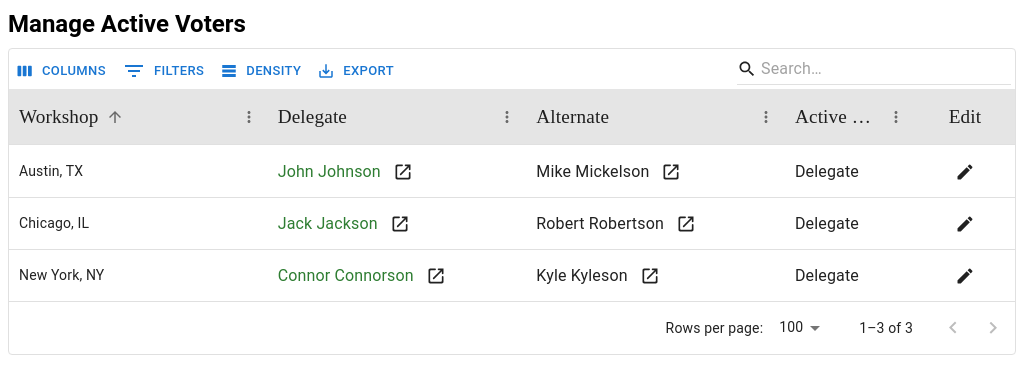
Test: Successfully alerts when voter ID is not valid
The width and height of the screenshot is (1024, 372).
Click the menu item with test id "edit-active-voter-1" at x=965, y=172, box [950, 156, 980, 186]
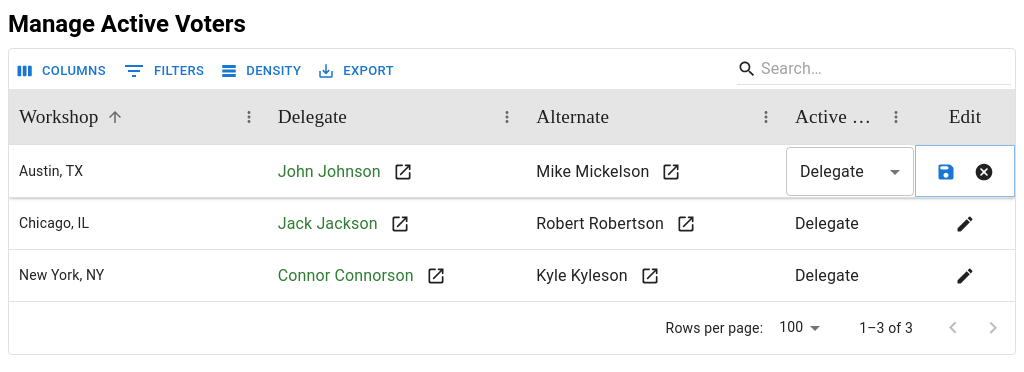
Click the menu item with test id "save-active-voter-1" at x=946, y=172, box [931, 156, 961, 186]
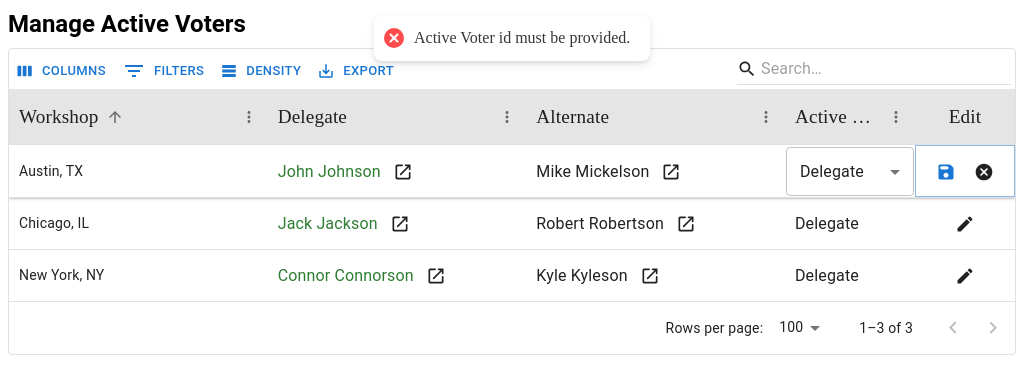
Result: the text "Active Voter id must be provided." is shown at [414, 28, 630, 49]
